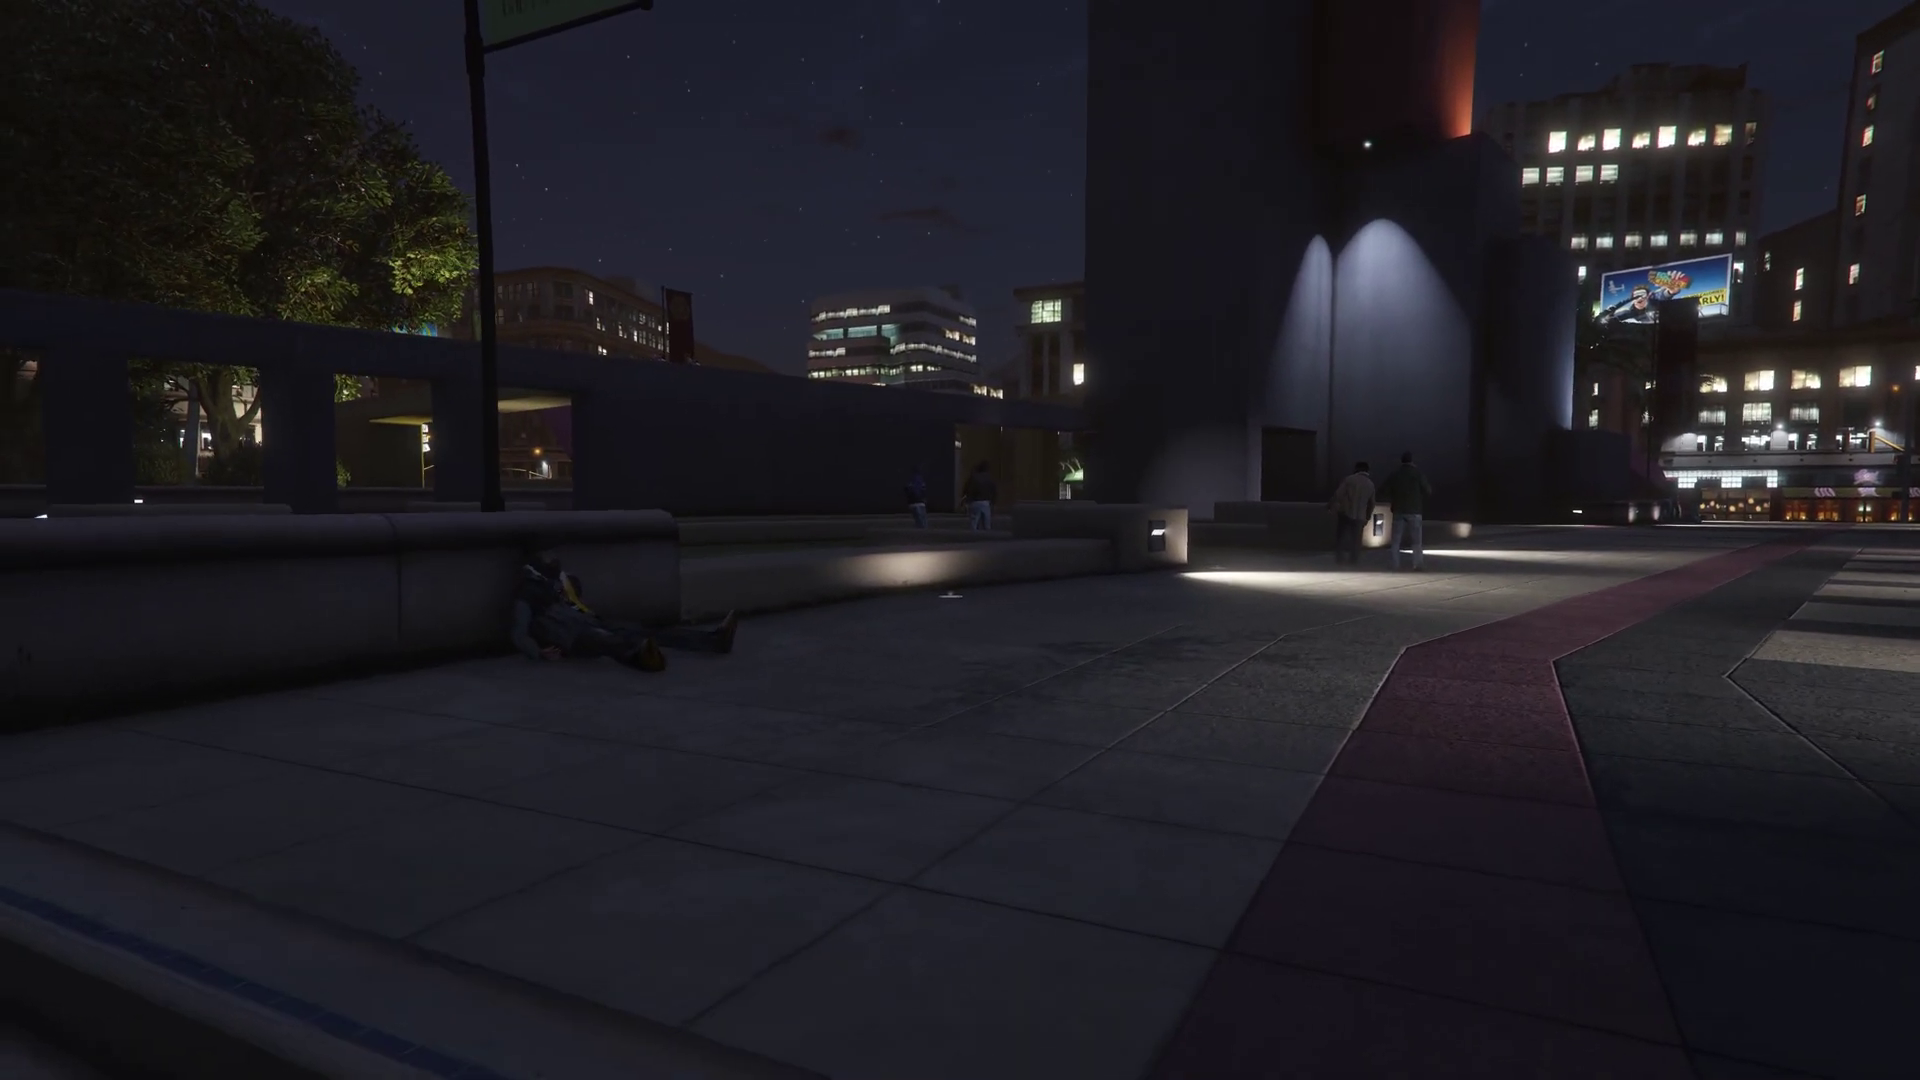person: (510, 541, 741, 670), (1378, 451, 1431, 570), (1331, 461, 1372, 560), (966, 460, 996, 530), (906, 464, 933, 534)
